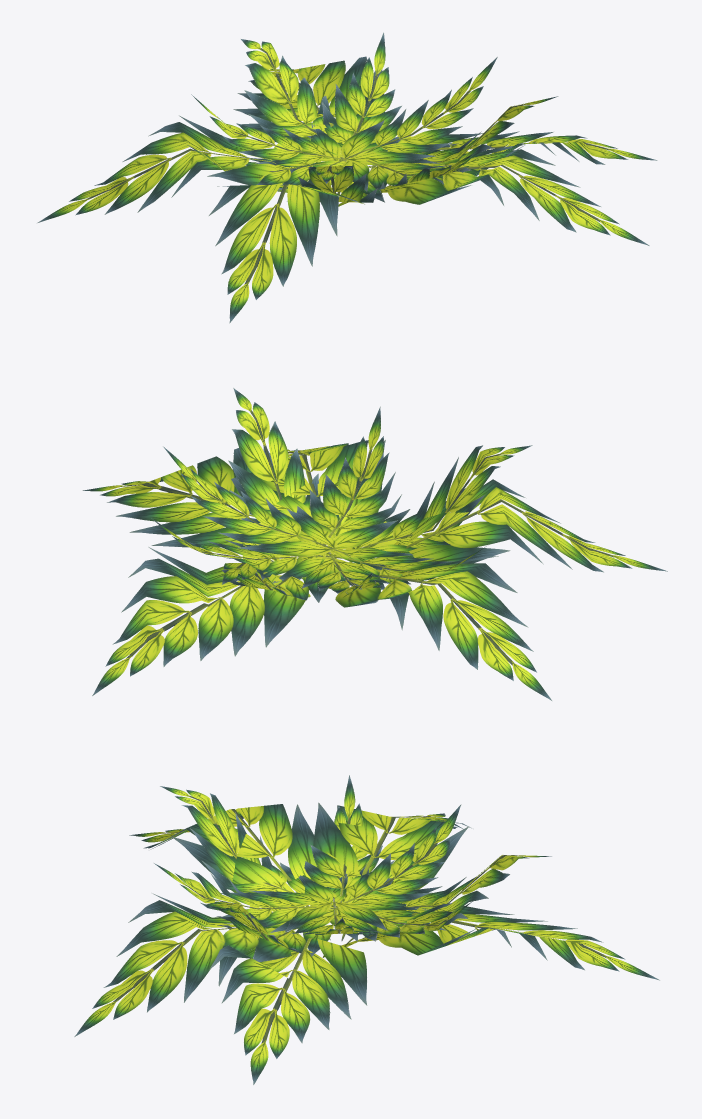
Rendered from fernplant.fbx.
The picture shows the model from 3 angles, top to bottom: view 1: azimuth 30°, elevation 25°; view 2: azimuth 150°, elevation 25°; view 3: azimuth 270°, elevation 25°; orthographic projection. The views are drawn at different scales.
Visible parts, largest first — view 1: pPlane78; view 2: pPlane78; view 3: pPlane78.
Boxes of the visible parts, <box> form: pPlane78: <box>37,32,657,323</box>; pPlane78: <box>82,388,667,700</box>; pPlane78: <box>74,775,659,1084</box>.
Size of the model in its own units: 57.74 by 11.34 by 55.09.
Materials: 1 (1 with a texture image).
